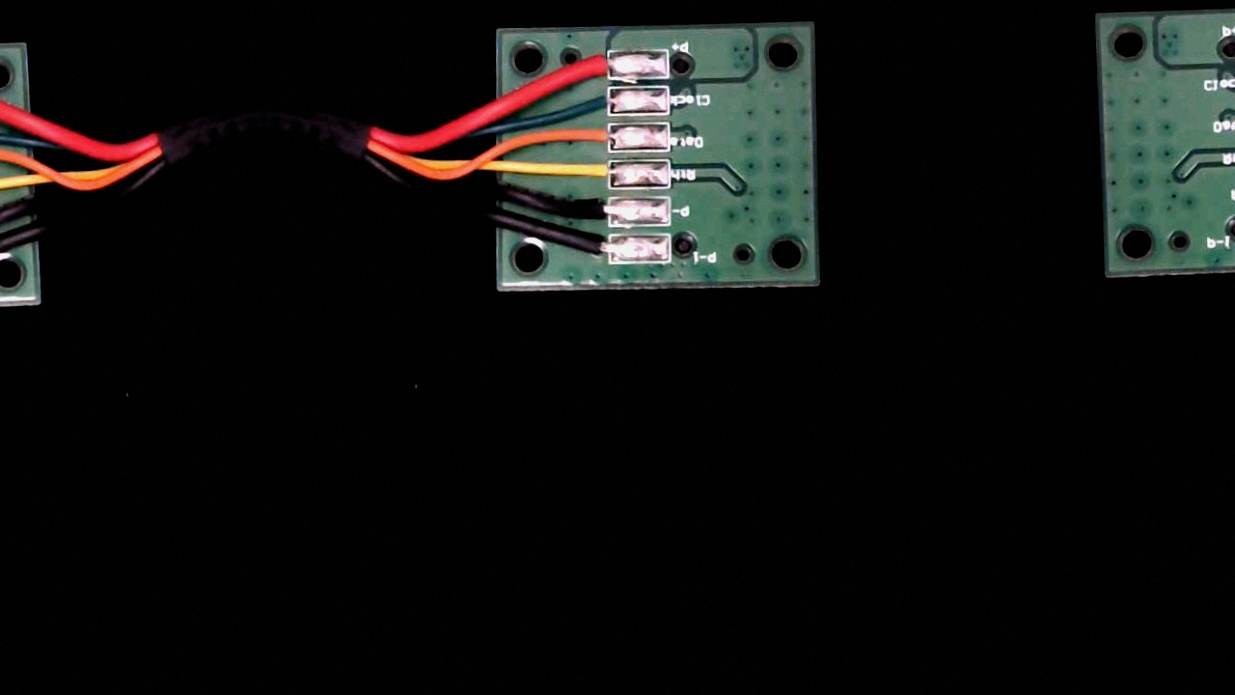Black: (556, 194, 627, 229)
Black1: (565, 234, 631, 268)
Green: (566, 87, 627, 119)
Orange: (568, 119, 629, 154)
Red: (563, 48, 624, 83)
Yellow: (556, 158, 628, 193)
